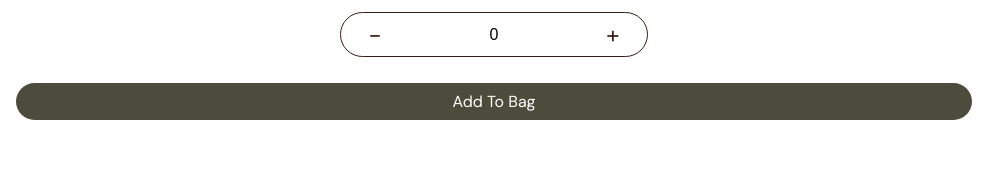
Test case: ButtonAddToCart component › displays only numbers when the value contains non-number characters
The image size is (989, 172).
Type "a30" into the field at (494, 34), box top-left (418, 18), bottom-right (570, 52)
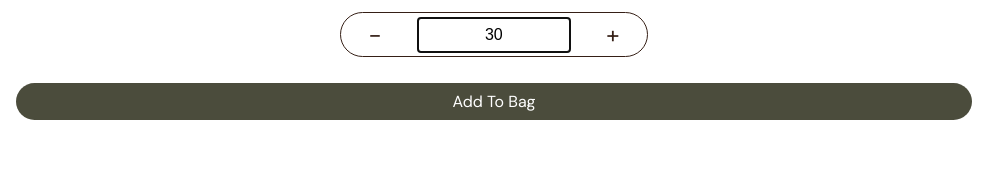
Check: the field holds "30", box top-left (418, 18), bottom-right (570, 52)
